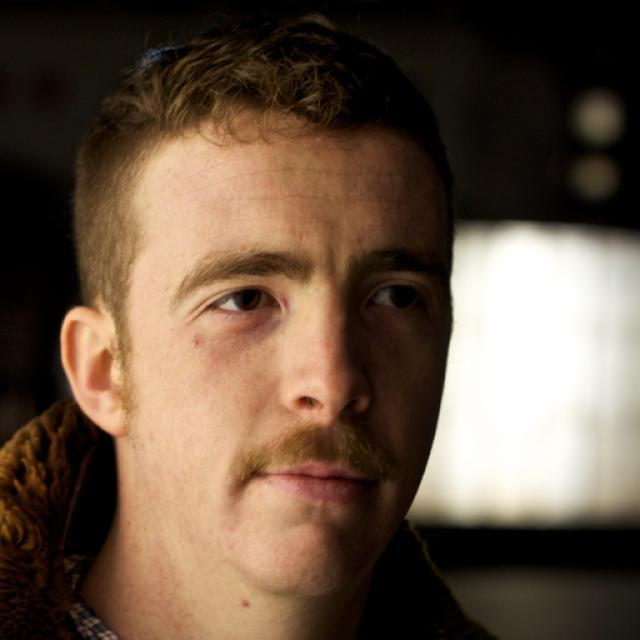neutral: (127, 106, 455, 599)
